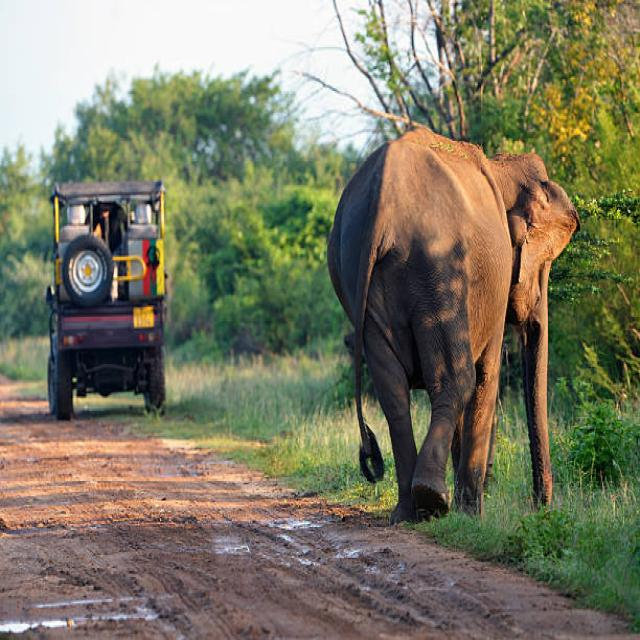Elephant: (324, 114, 582, 545)
